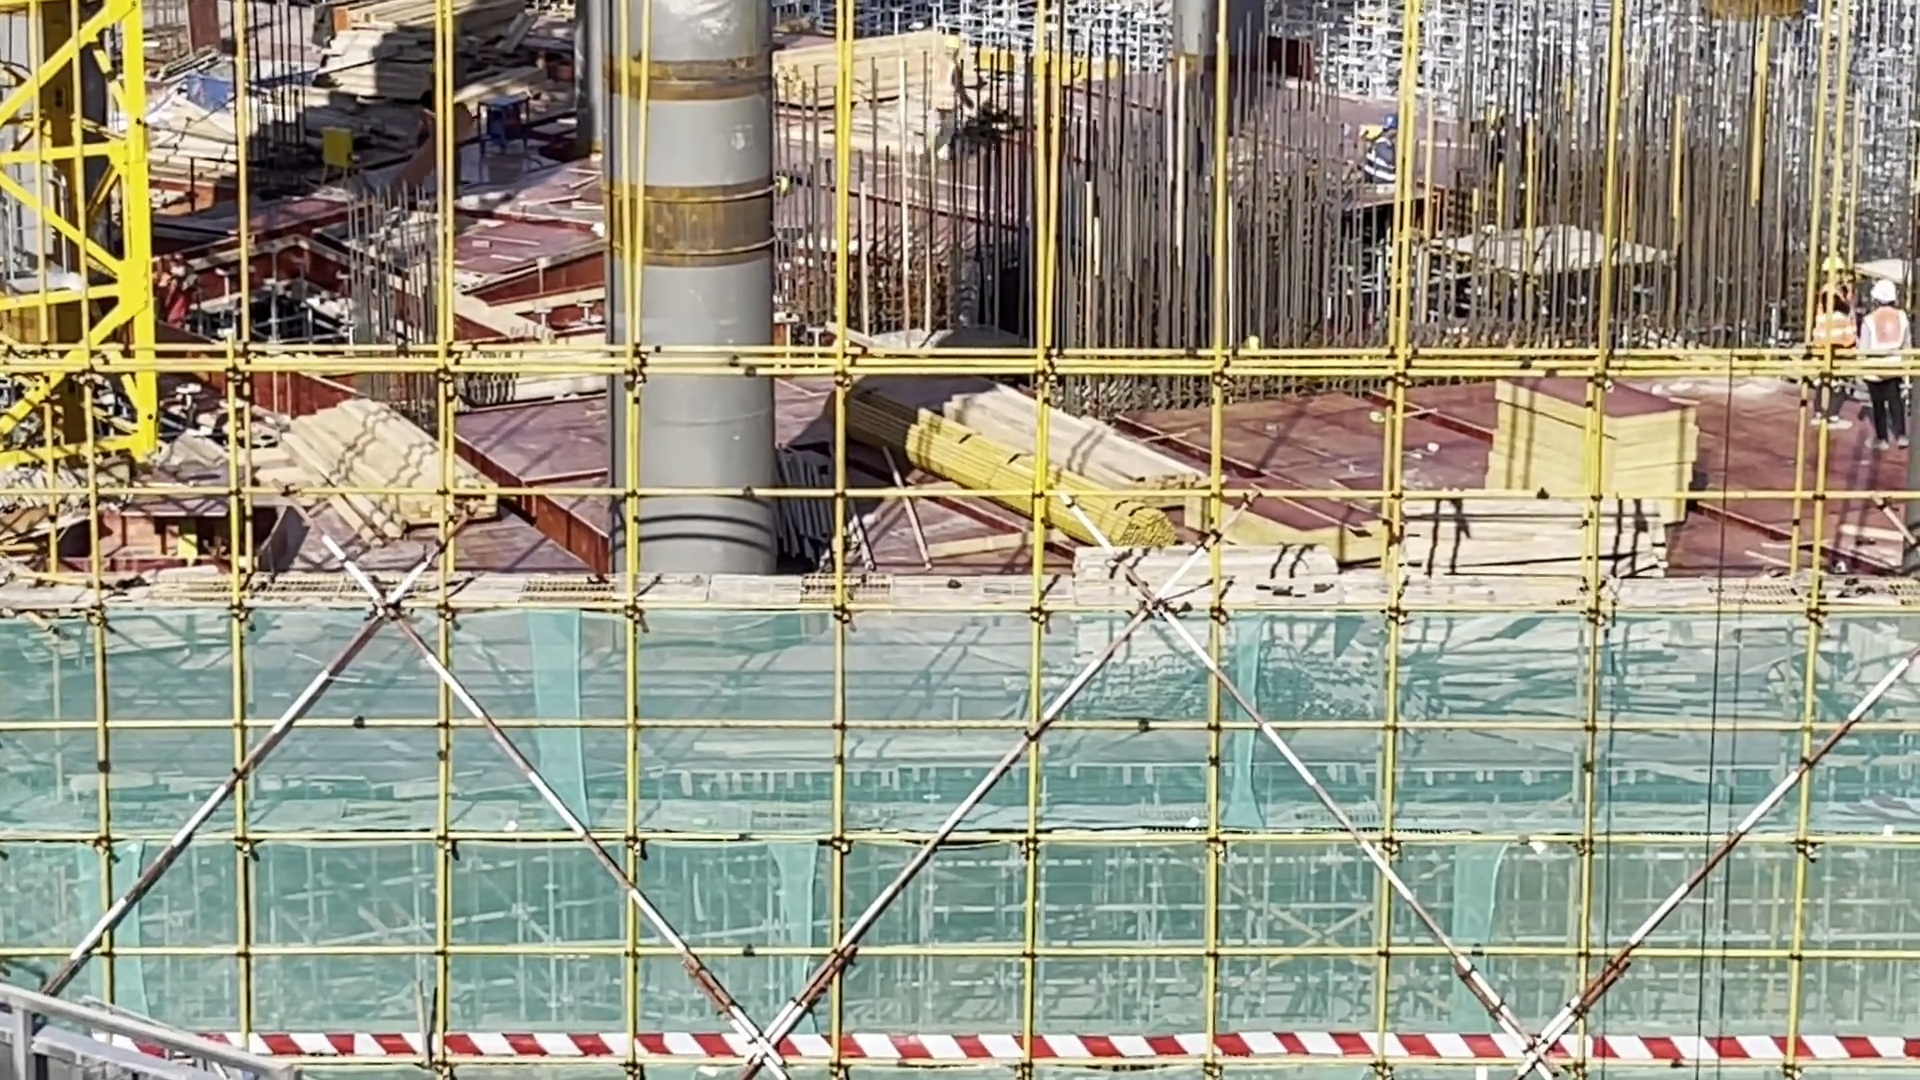board: (1488, 373, 1700, 524), (324, 18, 451, 103)
helmet: (1872, 281, 1895, 300)
person: (1858, 280, 1919, 449), (1806, 251, 1855, 426)
vest: (1814, 289, 1851, 360), (1859, 308, 1914, 351)
wood: (900, 395, 1190, 541), (278, 389, 517, 522), (770, 27, 965, 104)
